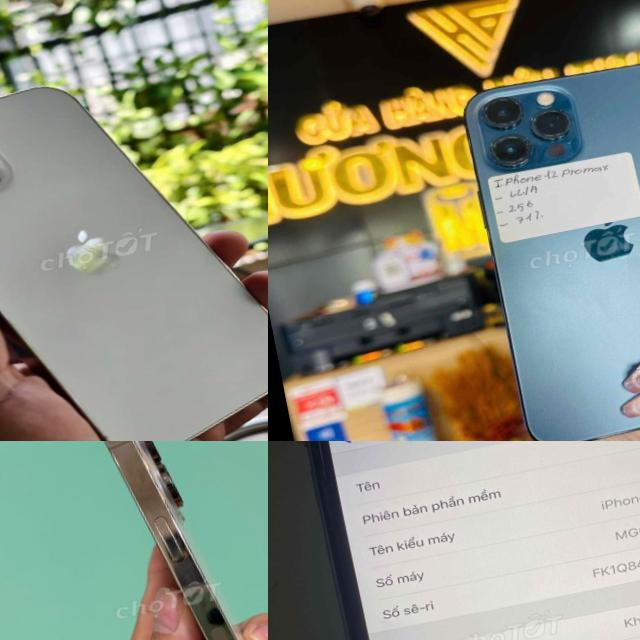gen_12_13: (0, 46, 268, 441), (461, 43, 640, 441)
gen_14: (88, 441, 268, 640)
gen_6: (280, 441, 640, 640)
